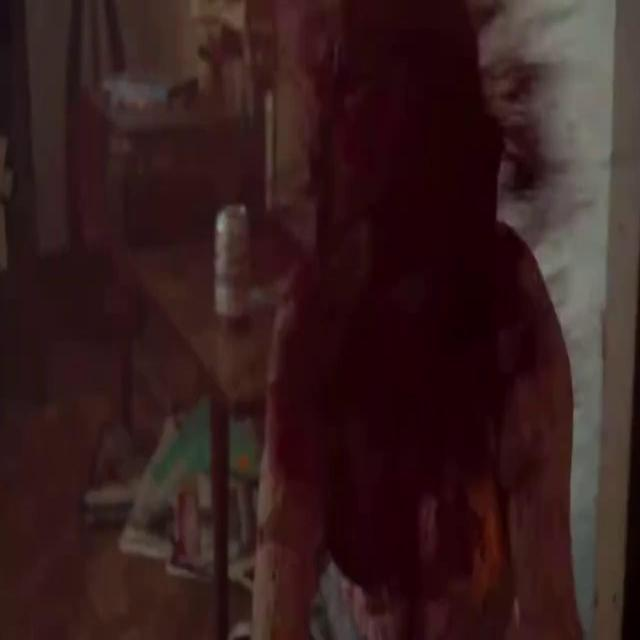flood: (259, 0, 552, 619)
